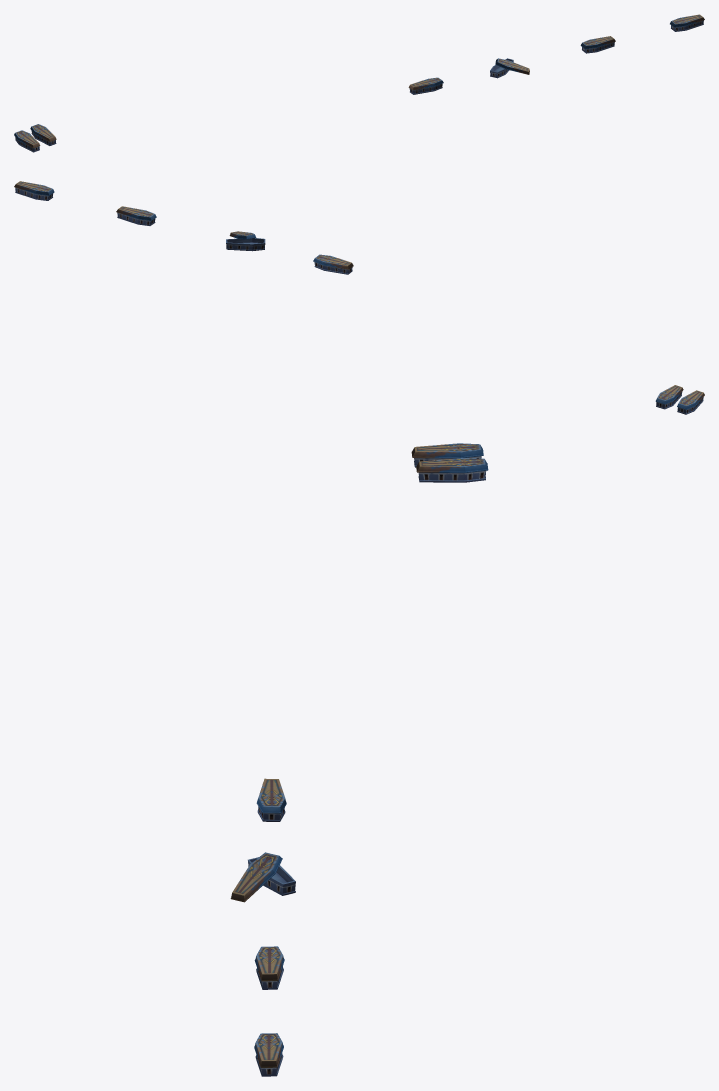
File: Area_11_10.fbx
The picture shows the model from 3 angles, top to bottom: view 1: azimuth 30°, elevation 25°; view 2: azimuth 150°, elevation 25°; view 3: azimuth 270°, elevation 25°; orthographic projection. The views are drawn at different scales.
Parts seen in each view (by area): view 1: Area_11_10; view 2: Area_11_10; view 3: Area_11_10.
Part boxes in pixels (left/top/right/bottom): Area_11_10: left=14, top=14, right=704, bottom=152; Area_11_10: left=14, top=181, right=704, bottom=414; Area_11_10: left=230, top=443, right=488, bottom=1076.
Size of the model in its own units: 7752 by 160 by 1356.
